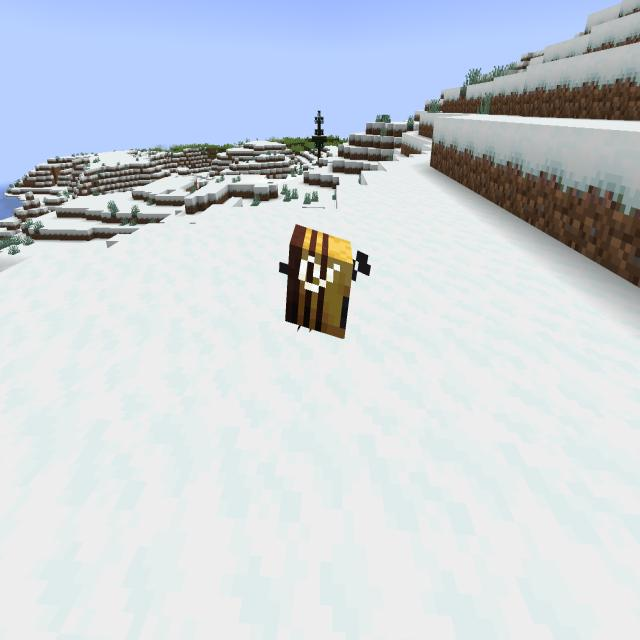bee: (272, 214, 376, 366)
